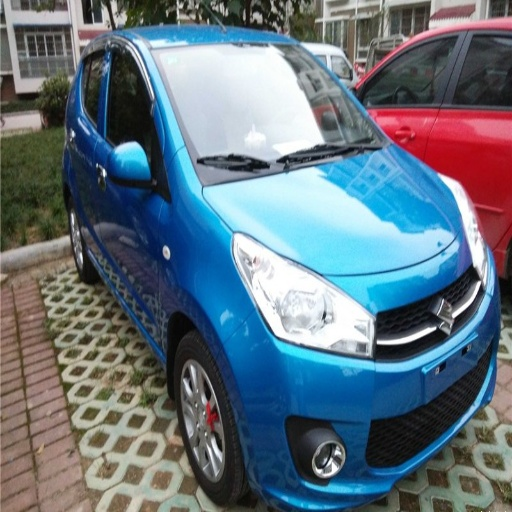front_bumper: (217, 254, 493, 511)
front_glass: (151, 43, 388, 183)
front_right_door: (97, 38, 165, 325)
front_right_light: (235, 233, 374, 357)
